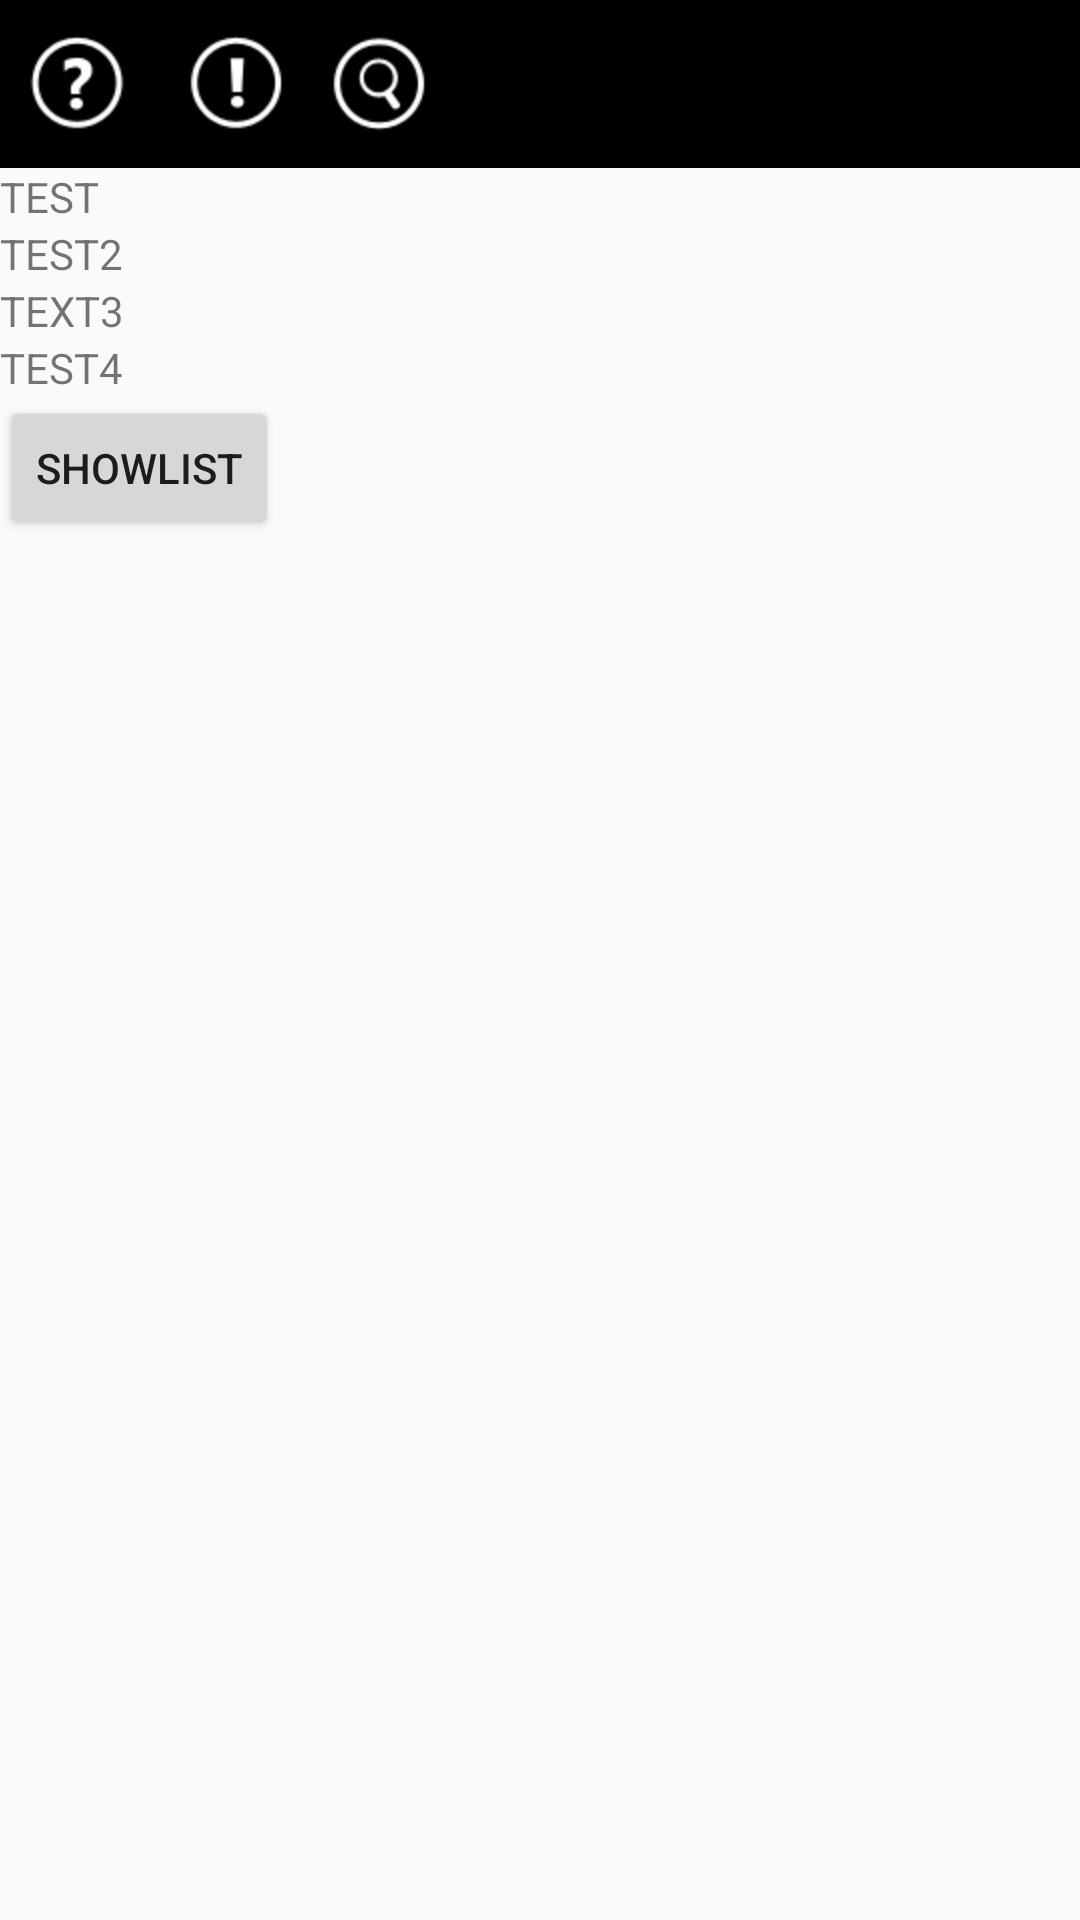

Screen size 1080px×1920px. Icon name, then its box in pixels as (x1, y1, x2, y2):
help: (31, 37, 124, 129)
notification: (190, 36, 282, 129)
search: (333, 37, 425, 130)
